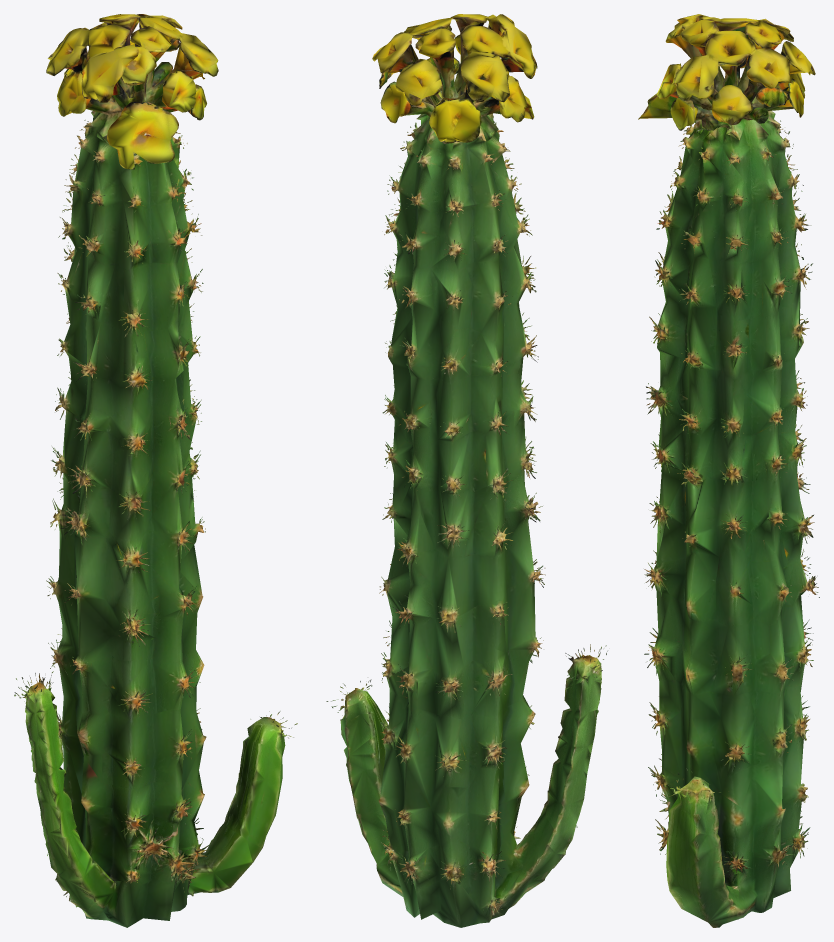
File: cactus_b.glb
3 views of the same model, side by side, from view 1: azimuth 30°, elevation 25°; view 2: azimuth 150°, elevation 25°; view 3: azimuth 270°, elevation 25° (orthographic).
Size of the model in its own units: 21122 by 65385 by 12316.
Materials: 1 (1 with a texture image).
